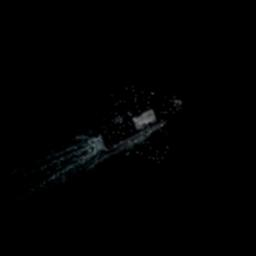boat: (94, 78, 183, 168)
